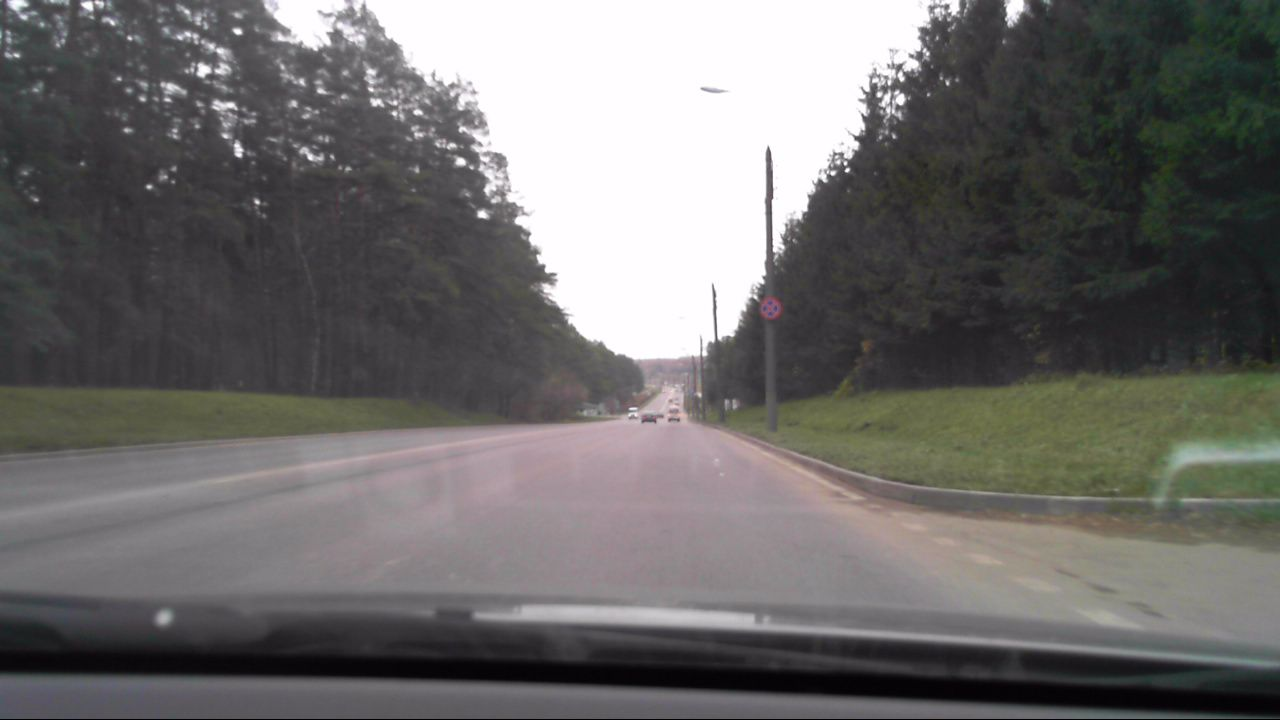No Parking: (758, 298, 780, 319)
